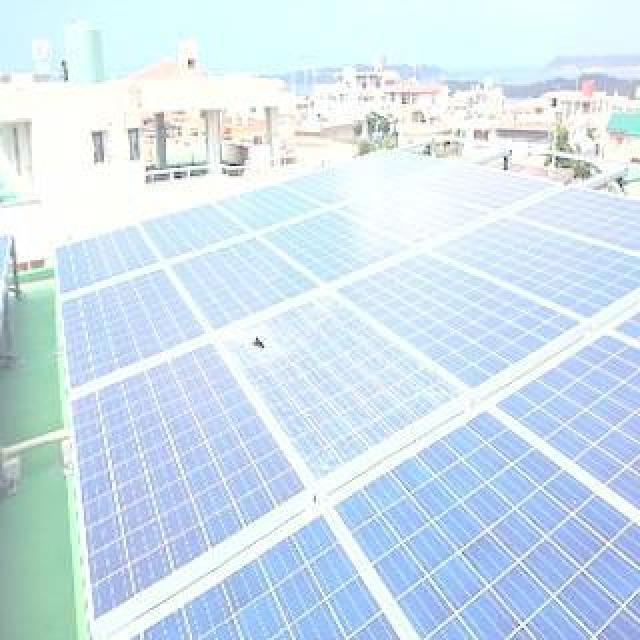cracked: (212, 286, 460, 472)
